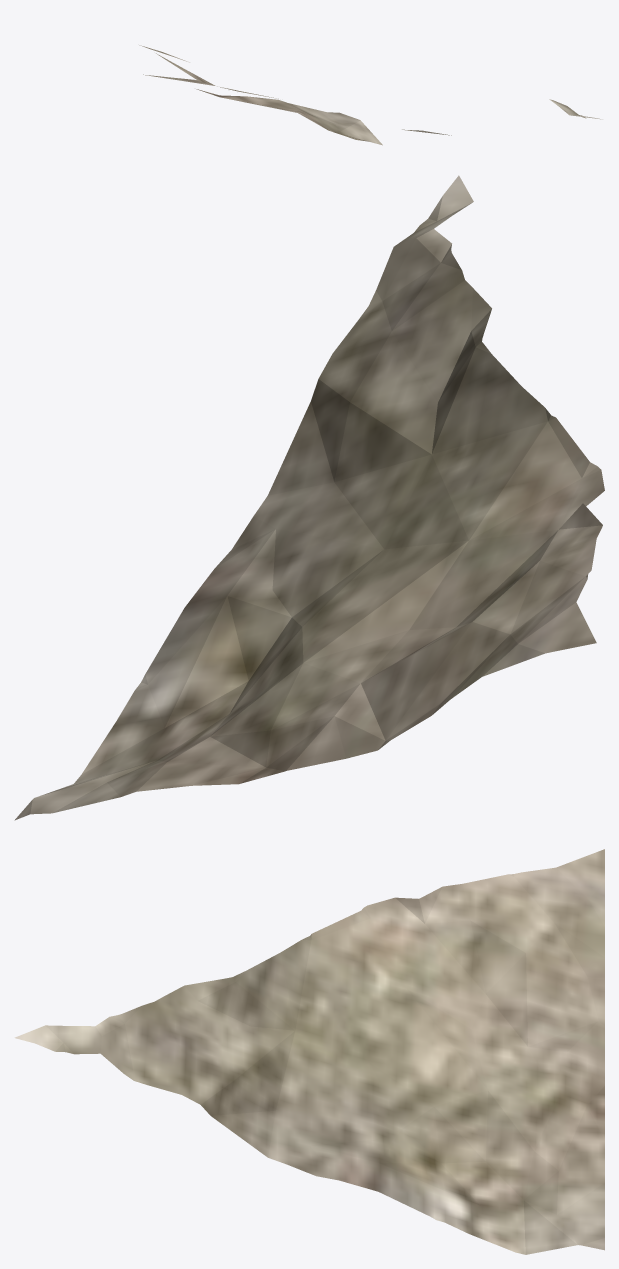
3 renders of one model, top to bottom at view 1: azimuth 30°, elevation 25°; view 2: azimuth 150°, elevation 25°; view 3: azimuth 270°, elevation 25°, orthographic. The views are drawn at different scales.
Size of the model in its own units: 0.8533 by 0.4572 by 1.13.
Materials: 1 (1 with a texture image).
